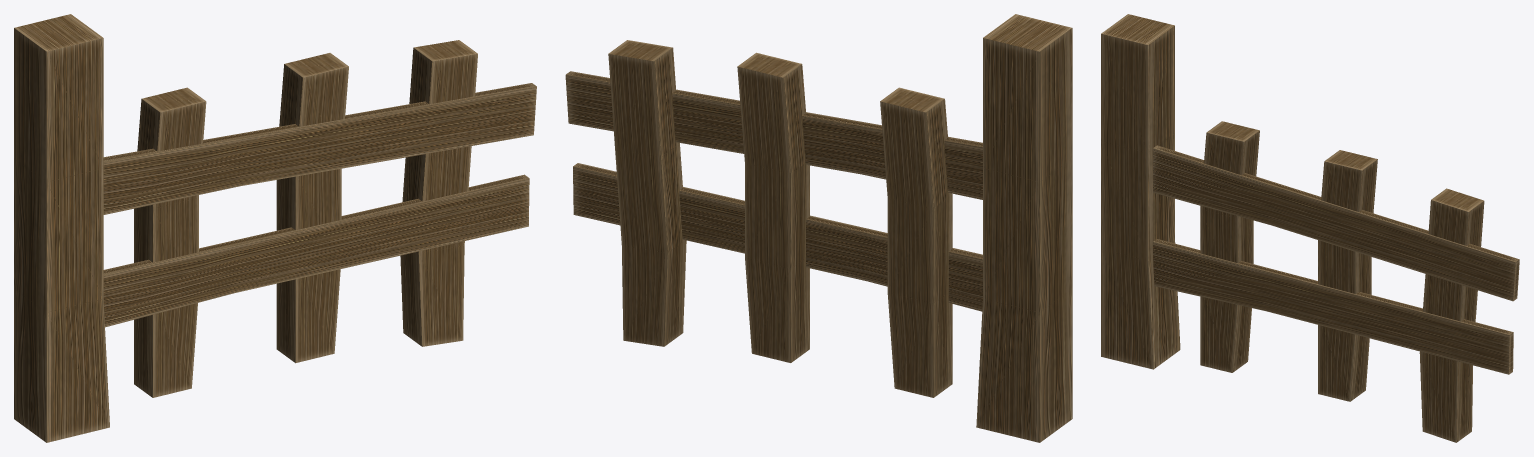
Rendered from fence_segment1.fbx.
3 views of the same model, side by side, from view 1: azimuth 30°, elevation 25°; view 2: azimuth 150°, elevation 25°; view 3: azimuth 330°, elevation 25° (orthographic). The views are drawn at different scales.
Visible parts, largest first — view 1: Mesh; view 2: Mesh; view 3: Mesh.
Part boxes in pixels (bbox=[...]): Mesh: bbox=[14, 14, 536, 442]; Mesh: bbox=[565, 14, 1072, 442]; Mesh: bbox=[1101, 14, 1519, 442].
Bounding box in the file's own units: 209 × 160 × 23.86.
